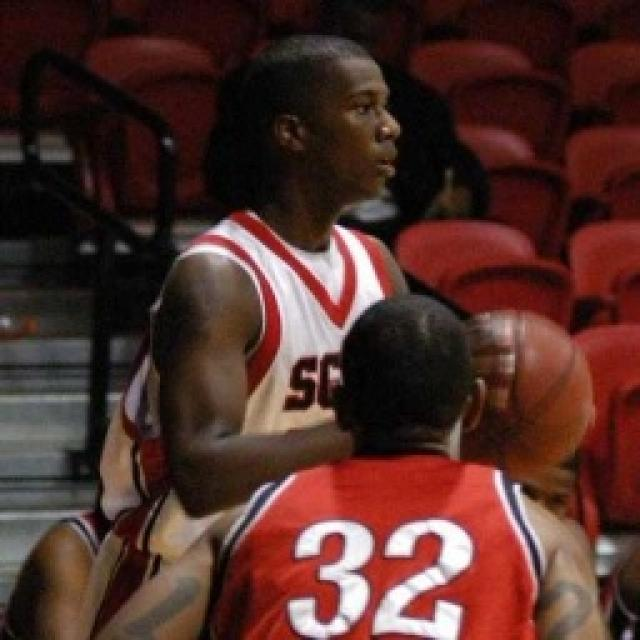rim: (457, 310, 591, 477)
